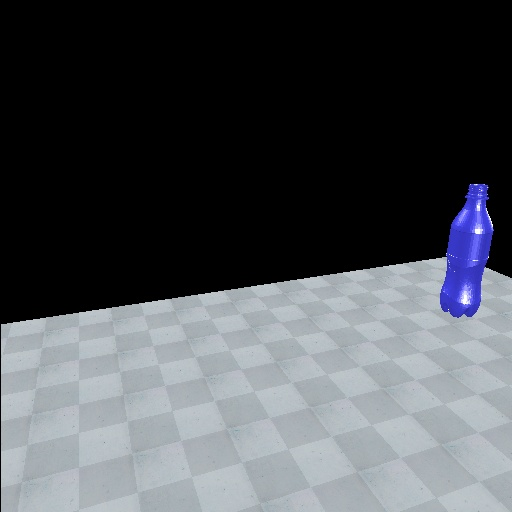bottle: (437, 177, 496, 322)
